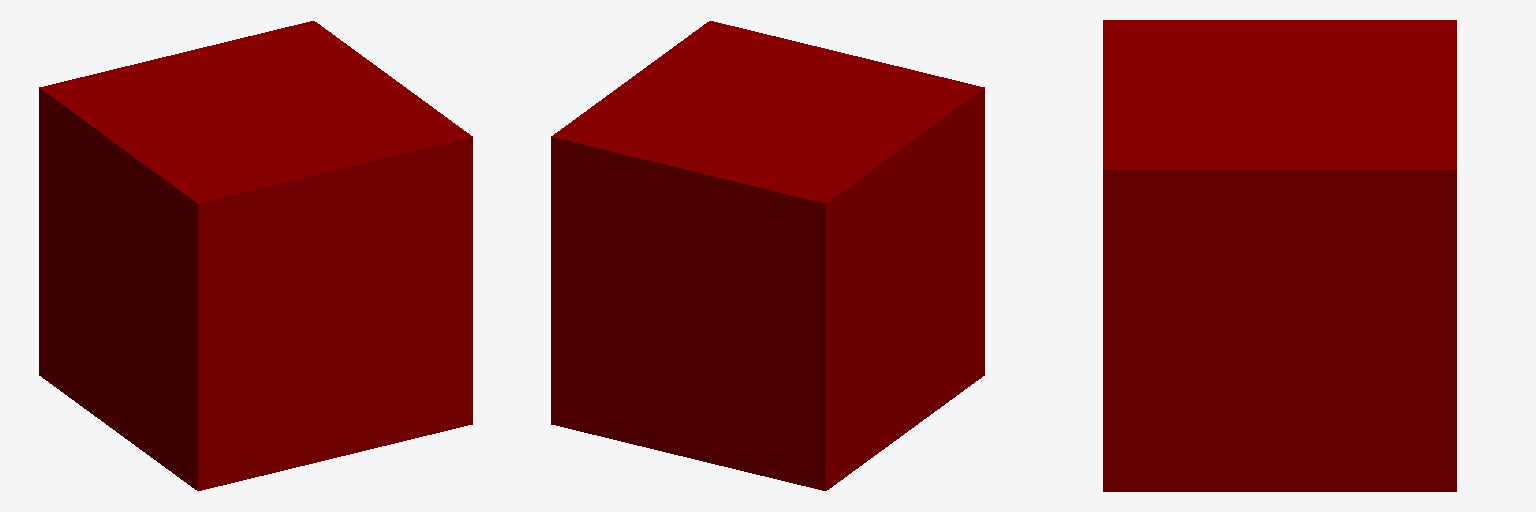
robot.urdf — cube:
<?xml version="1.0"?>
<robot name="cube" xmlns:drake="https://drake.mit.edu/">
    <link name="body">
        <inertial>
            <origin xyz="0 0 0" rpy="0 0 0"/>
            <mass value="0.37" />
            <inertia
                ixx="0.0013545749333333335"
                ixy="0"
                ixz="0"
                iyy="0.0013545749333333335"
                iyz="0"
                izz="0.0013545749333333335"/>
        </inertial>
        <visual>
            <origin xyz="0 0 0" rpy="0 0 0" />
            <geometry>
                <box size="0.1048 0.1048 0.1048"/>
            </geometry>
            <material name="pennred">
                <color rgba="0.6 0 0 1.0" />
            </material>
        </visual>
        <collision>
            <geometry>
                <box size="0.1048 0.1048 0.1048"/>
            </geometry>
            <origin xyz="0 0 0" rpy="0 0 0" />
            <drake:proximity_properties>
                <drake:mu_static value="0.15" />
            </drake:proximity_properties>
        </collision>
    </link>
</robot>

--- What the picture shows (computed from the rendered views, not written in the file) ---
The picture shows the robot from 3 angles, left to right: view 1: azimuth 30°, elevation 25°; view 2: azimuth 150°, elevation 25°; view 3: azimuth 270°, elevation 25°; orthographic projection.
Model cube with 1 links and 0 joints (none), rooted at body, posed every joint at zero.
Visible links, largest first — view 1: body; view 2: body; view 3: body.
Link boxes in pixels (x1=…): body: x1=39, y1=21, x2=472, y2=490; body: x1=551, y1=21, x2=984, y2=490; body: x1=1103, y1=20, x2=1456, y2=491.
Size in the robot's own frame: 0.1048 by 0.1048 by 0.1048 metres.
Geometry: primitives only (box / cylinder / sphere), no mesh files.